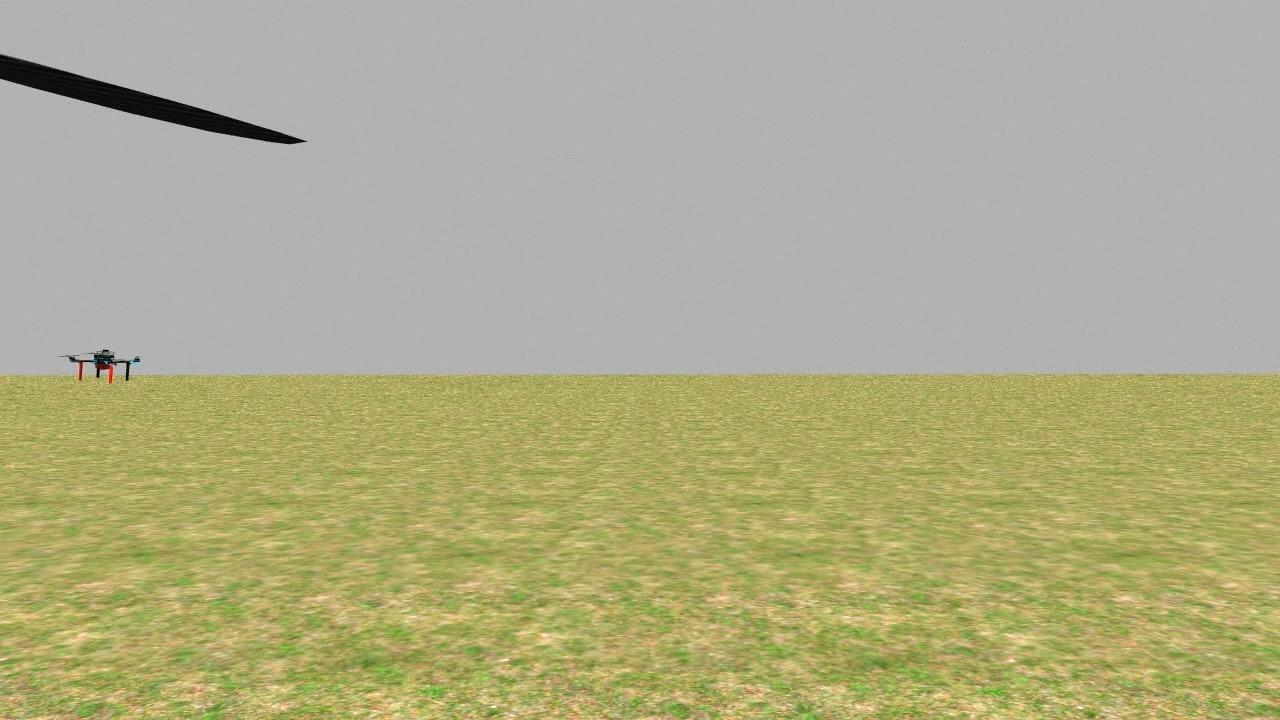UAV: (67, 339, 142, 385)
